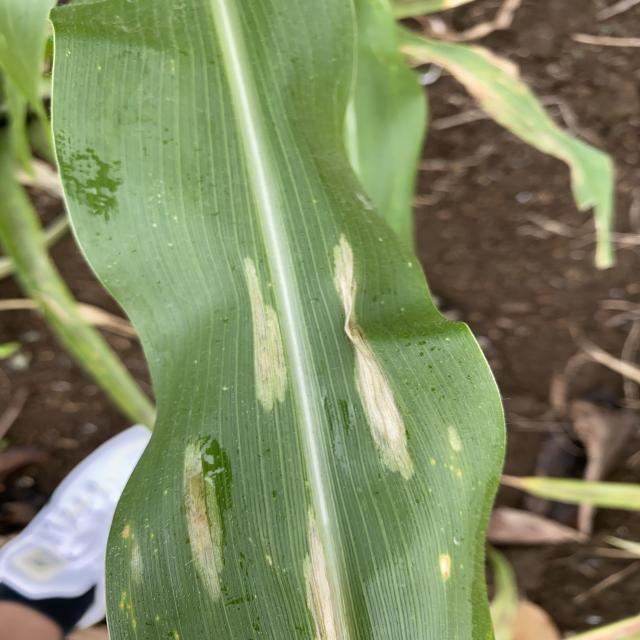Corn_Leaf_Blight: (111, 0, 508, 640)
